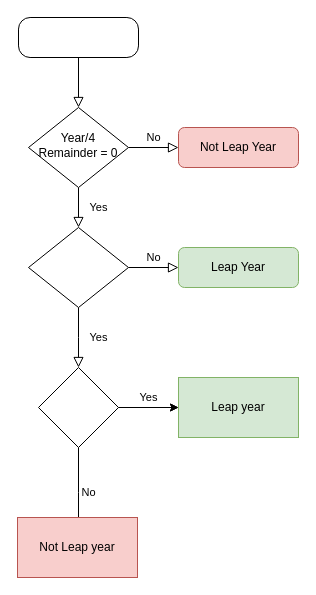
Image size: 316x595. Some labels were removed from this diagram. The centre of each missing label's shape, as x and y in pixels:
"Start" belongs at pixel 78 37.
"year/100 Remainder=0" belongs at pixel 78 267.
"year/400 Remainder = 0" belongs at pixel 78 407.
